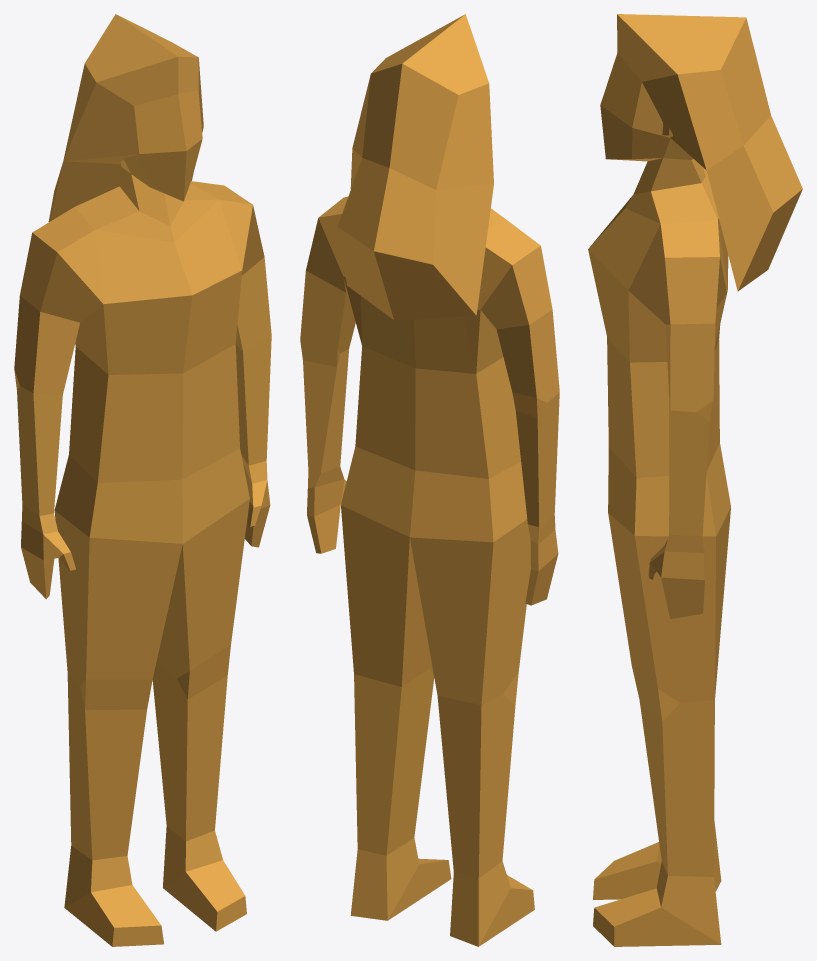
File: woman-casual-pants.fbx
The picture shows the model from 3 angles, left to right: view 1: azimuth 30°, elevation 25°; view 2: azimuth 150°, elevation 25°; view 3: azimuth 270°, elevation 25°; orthographic projection. The views are drawn at different scales.
Visible parts, largest first — view 1: woman-casual-pants; view 2: woman-casual-pants; view 3: woman-casual-pants.
Boxes of the visible parts, x1=… form: woman-casual-pants: x1=14, y1=14, x2=271, y2=946; woman-casual-pants: x1=300, y1=14, x2=559, y2=946; woman-casual-pants: x1=588, y1=14, x2=802, y2=946.
Bounding box in the file's own units: 0.5327 × 1.86 × 0.4019.
